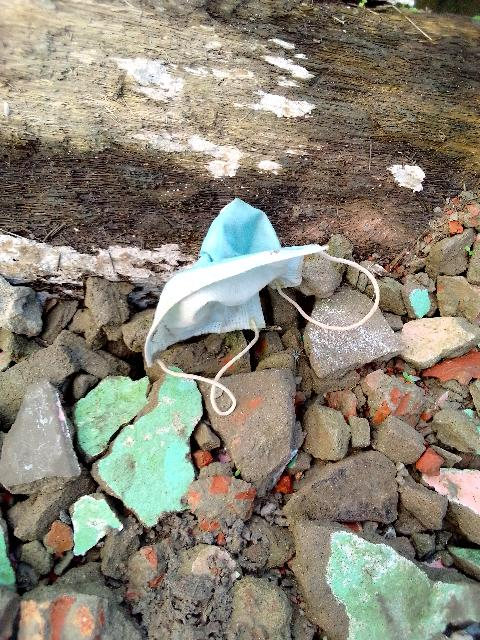mask: (152, 207, 304, 351)
